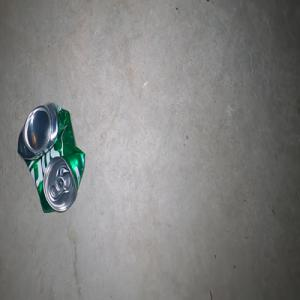SodaCan: (17, 101, 85, 213)
